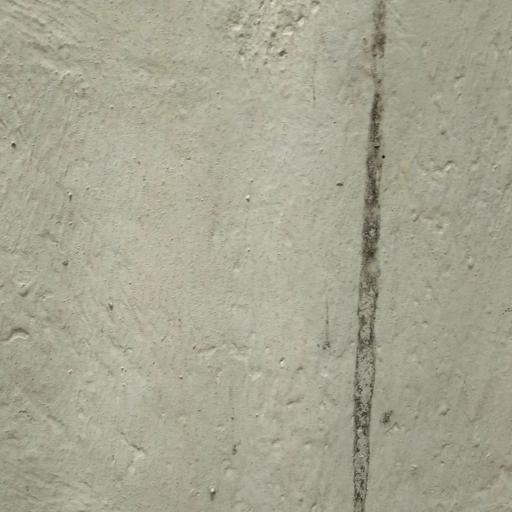stain: (304, 7, 439, 512)
